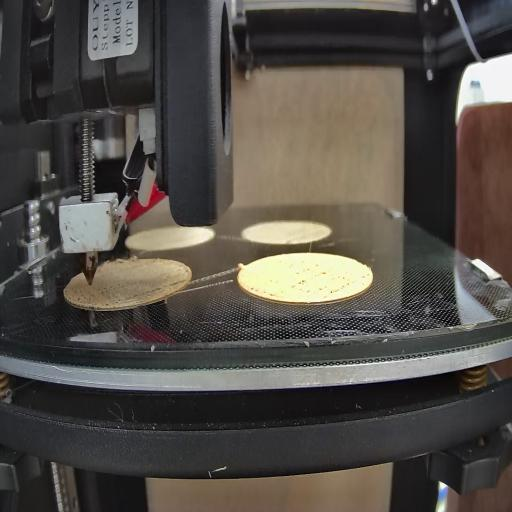under_extrusion: (66, 279, 186, 308), (287, 254, 366, 298), (247, 275, 278, 299)
